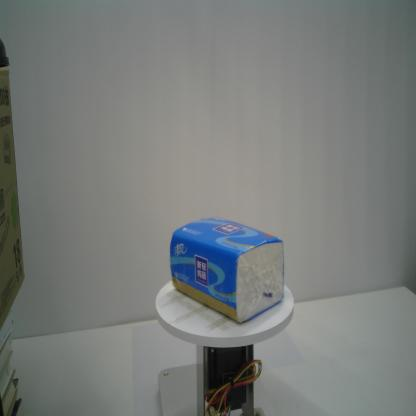Tissue: (167, 216, 286, 323)
